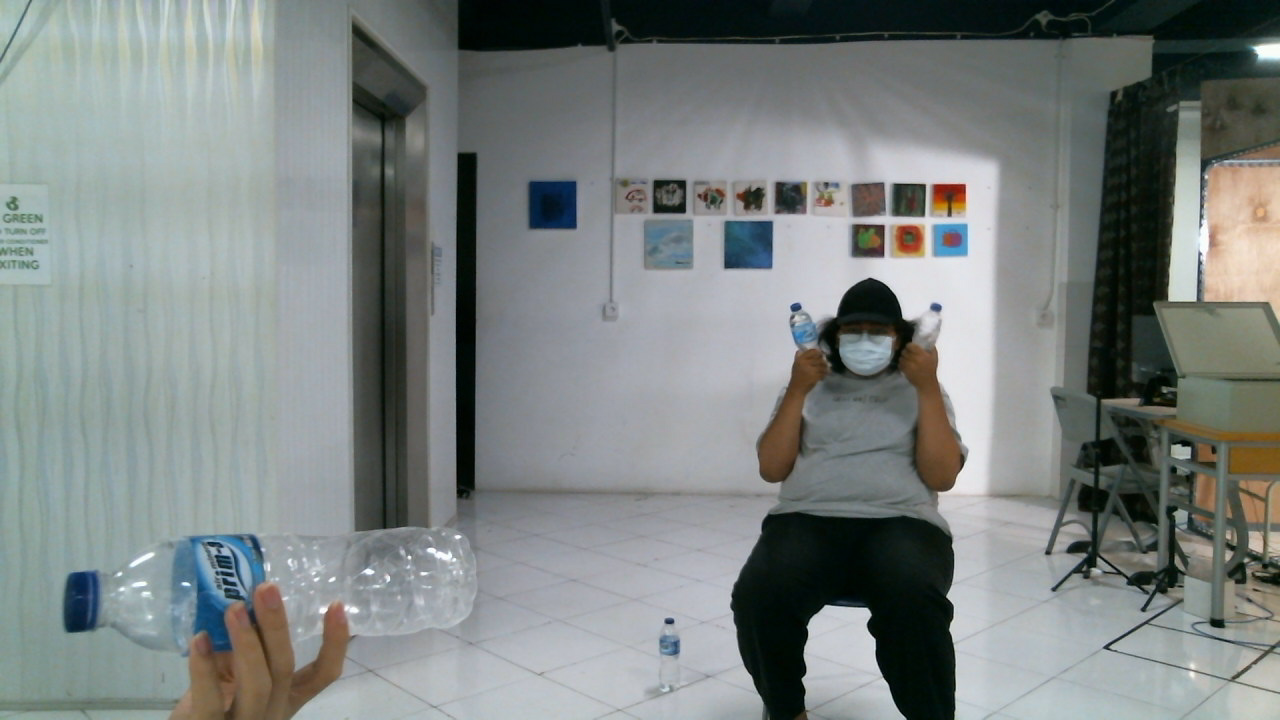Bottle: (63, 523, 476, 637), (653, 615, 681, 692)
